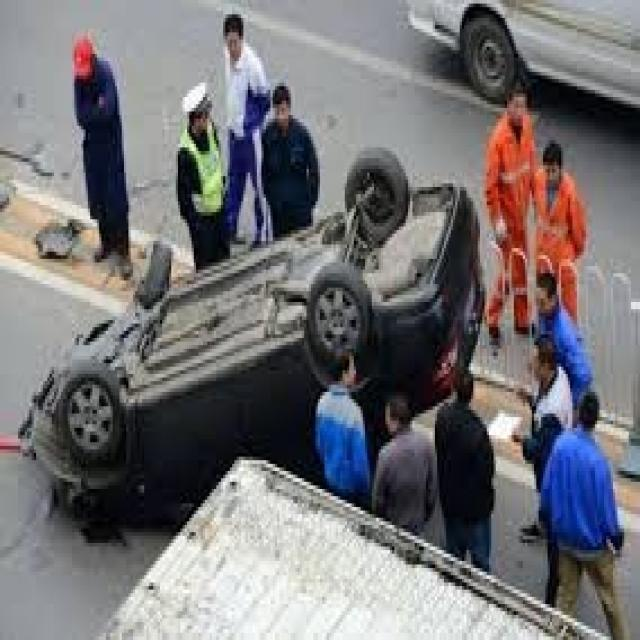accident: (12, 162, 484, 486)
